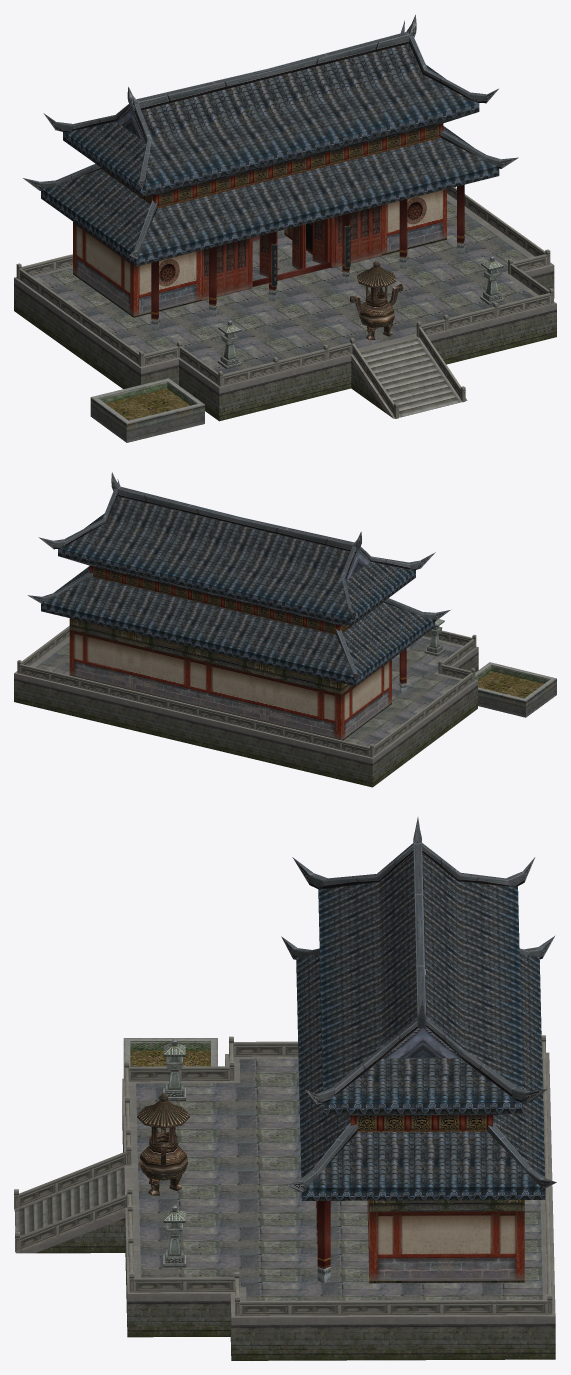
The model's file is temple.obj.
3 views of the same model, one above another, from view 1: azimuth 30°, elevation 25°; view 2: azimuth 150°, elevation 25°; view 3: azimuth 270°, elevation 25° (orthographic). The views are drawn at different scales.
Visible parts, largest first — view 1: b05, 33333333, b012, b013, b017, b14, b028, b032, b020, b021, b018, b006 (+6 smaller); view 2: b05, b018, b012, b013, b017, 33333333, b020, b006, b003, b010, b007, b024; view 3: b05, 33333333, b012, b013, b018, b017, b032, b026, b020, b024, b019, b021 (+3 smaller).
Boxes of the visible parts, <box> form: b05: <box>41,43,499,266</box>; 33333333: <box>34,200,533,374</box>; b012: <box>14,193,556,421</box>; b013: <box>16,187,553,418</box>; b017: <box>23,14,518,259</box>; b14: <box>202,205,381,300</box>; b028: <box>133,189,446,317</box>; b032: <box>351,338,467,418</box>; b020: <box>101,123,443,208</box>; b021: <box>151,184,464,331</box>; b018: <box>73,222,133,317</box>; b006: <box>90,378,204,442</box>; b05: <box>41,496,434,686</box>; b018: <box>69,618,391,740</box>; b012: <box>14,636,478,787</box>; b013: <box>17,626,476,757</box>; b017: <box>27,472,450,680</box>; 33333333: <box>36,638,460,746</box>; b020: <box>89,566,382,634</box>; b006: <box>475,662,556,717</box>; b003: <box>478,671,543,698</box>; b010: <box>60,556,349,625</box>; b007: <box>475,664,550,683</box>; b024: <box>424,619,444,656</box>; b05: <box>296,854,545,1200</box>; 33333333: <box>136,1059,542,1300</box>; b012: <box>17,1052,555,1360</box>; b013: <box>14,1035,552,1315</box>; b018: <box>369,1200,524,1283</box>; b017: <box>281,817,556,1191</box>; b032: <box>14,1165,125,1253</box>; b026: <box>137,1092,189,1195</box>; b020: <box>350,929,492,1132</box>; b024: <box>163,1039,185,1267</box>; b019: <box>384,855,461,1058</box>; b021: <box>316,1201,330,1283</box>.
Bounding box in the file's own units: 6.88 × 3.46 × 5.31.
Materials: 24 (24 with a texture image).
